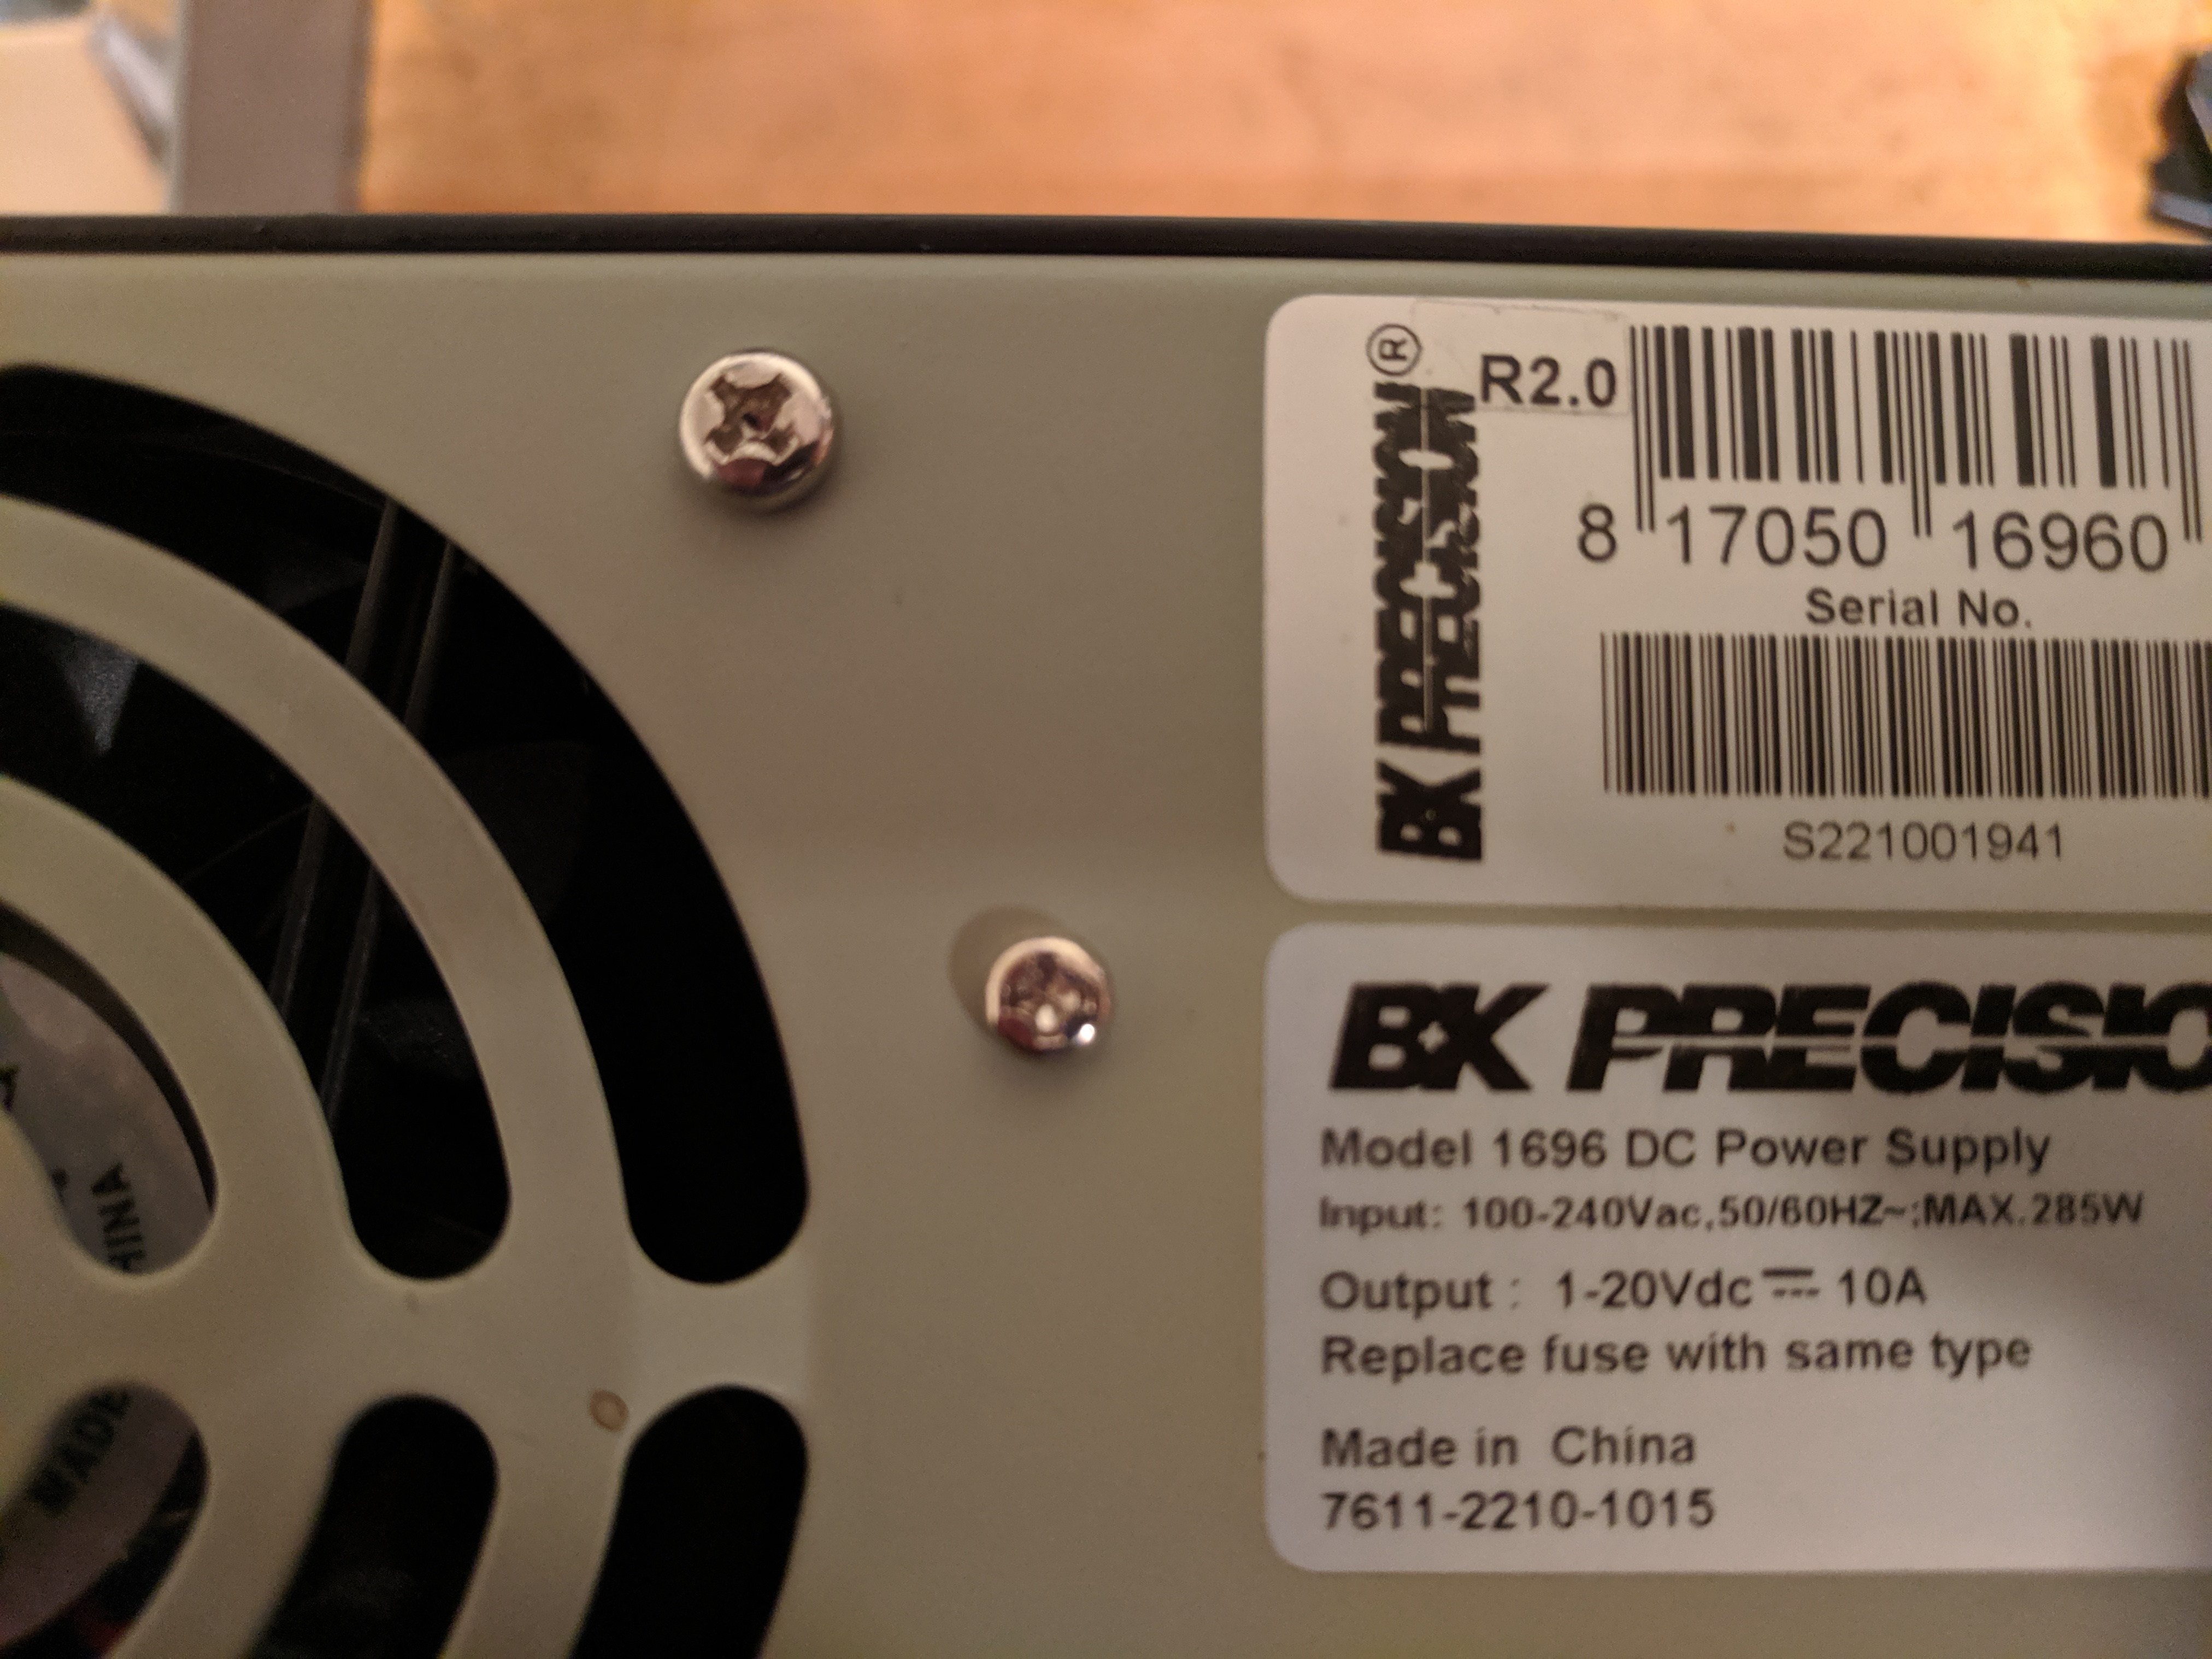cross_recessed_screw: (672, 345, 833, 497), (972, 927, 1113, 1056)
